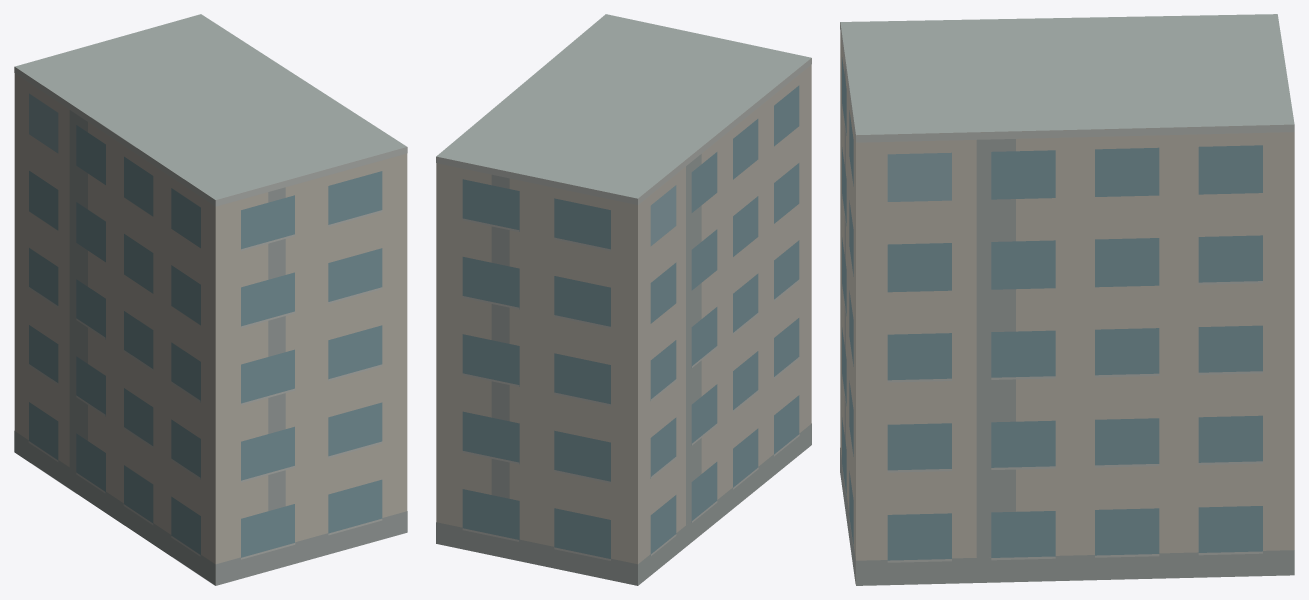
Rendered from survey-upis-32885771.glb.
3 views of the same model, side by side, from view 1: azimuth 30°, elevation 25°; view 2: azimuth 150°, elevation 25°; view 3: azimuth 270°, elevation 25° (orthographic). The views are drawn at different scales.
Parts seen in each view (by area): view 1: survey-upis-32885771.tmp; view 2: survey-upis-32885771.tmp; view 3: survey-upis-32885771.tmp.
Part boxes in pixels (x1,y1,x2,y2): survey-upis-32885771.tmp: (14, 14, 407, 585); survey-upis-32885771.tmp: (436, 14, 811, 585); survey-upis-32885771.tmp: (840, 14, 1294, 585).
Bounding box in the file's own units: 8.34 × 14.45 × 13.21.
